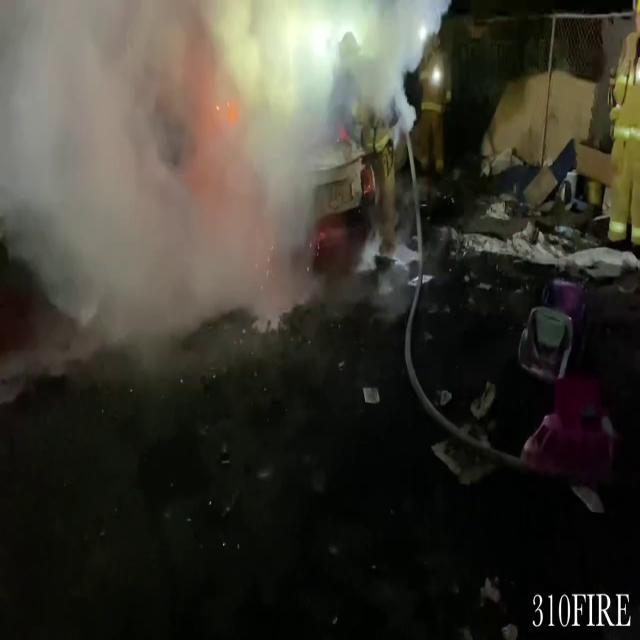Smoke: (0, 0, 366, 364)
